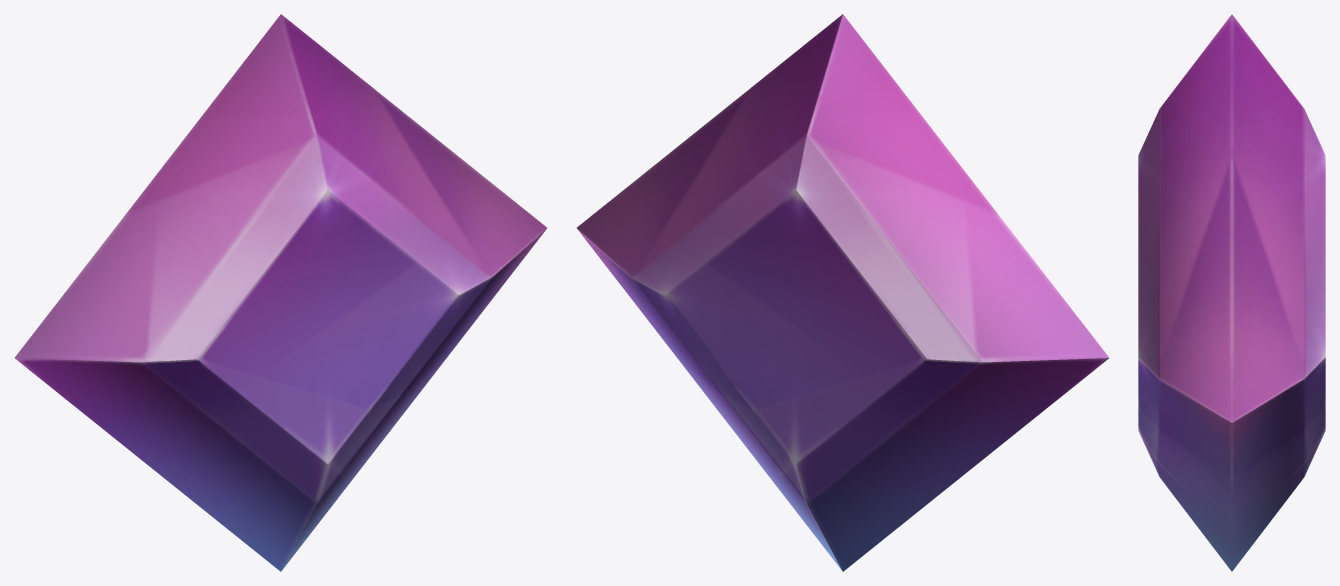
File: scenes_common_jewel05.FBX
The picture shows the model from 3 angles, left to right: view 1: azimuth 30°, elevation 25°; view 2: azimuth 150°, elevation 25°; view 3: azimuth 270°, elevation 25°; orthographic projection.
Visible parts, largest first — view 1: scenes_common_jewel05; view 2: scenes_common_jewel05; view 3: scenes_common_jewel05.
Boxes of the visible parts, left/top/right/bottom form: scenes_common_jewel05: left=14, top=14, right=547, bottom=571; scenes_common_jewel05: left=576, top=14, right=1109, bottom=571; scenes_common_jewel05: left=1138, top=14, right=1325, bottom=571.
Size of the model in its own units: 110 by 110 by 33.44.
